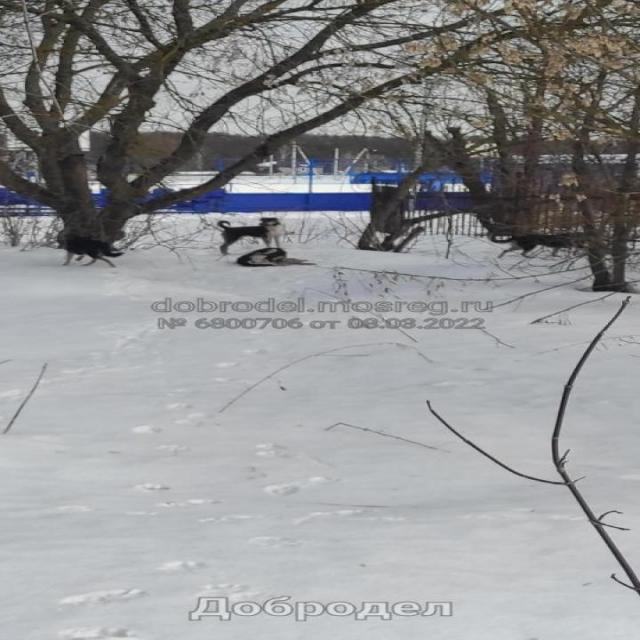dog: (212, 212, 283, 252), (232, 244, 314, 278)
